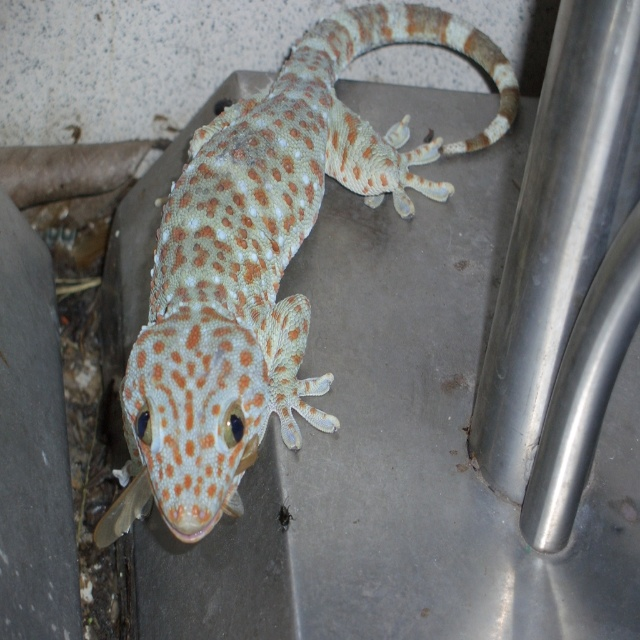Lizard: (104, 1, 492, 600)
